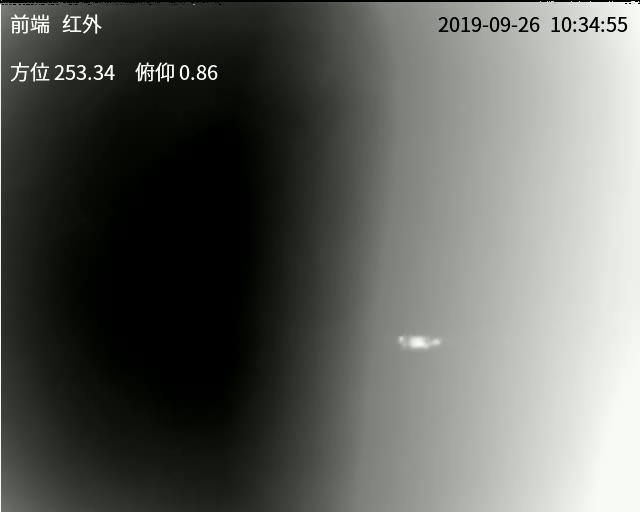uav: (393, 329, 445, 354)
